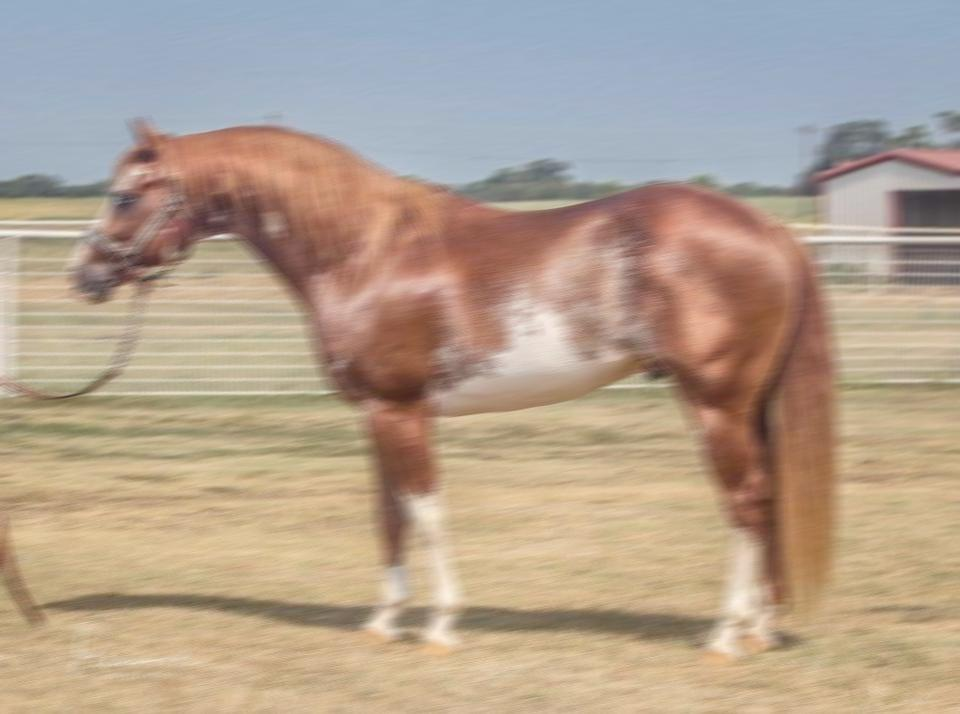horse: (66, 113, 843, 667)
